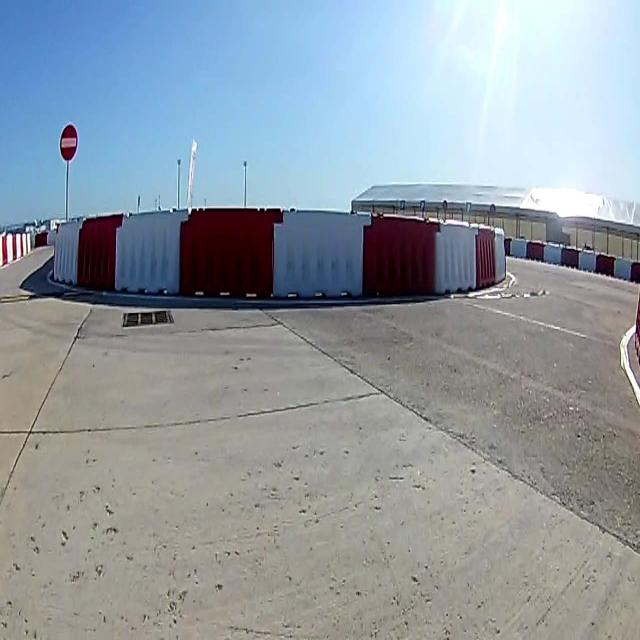girisyok: (59, 124, 78, 160)
